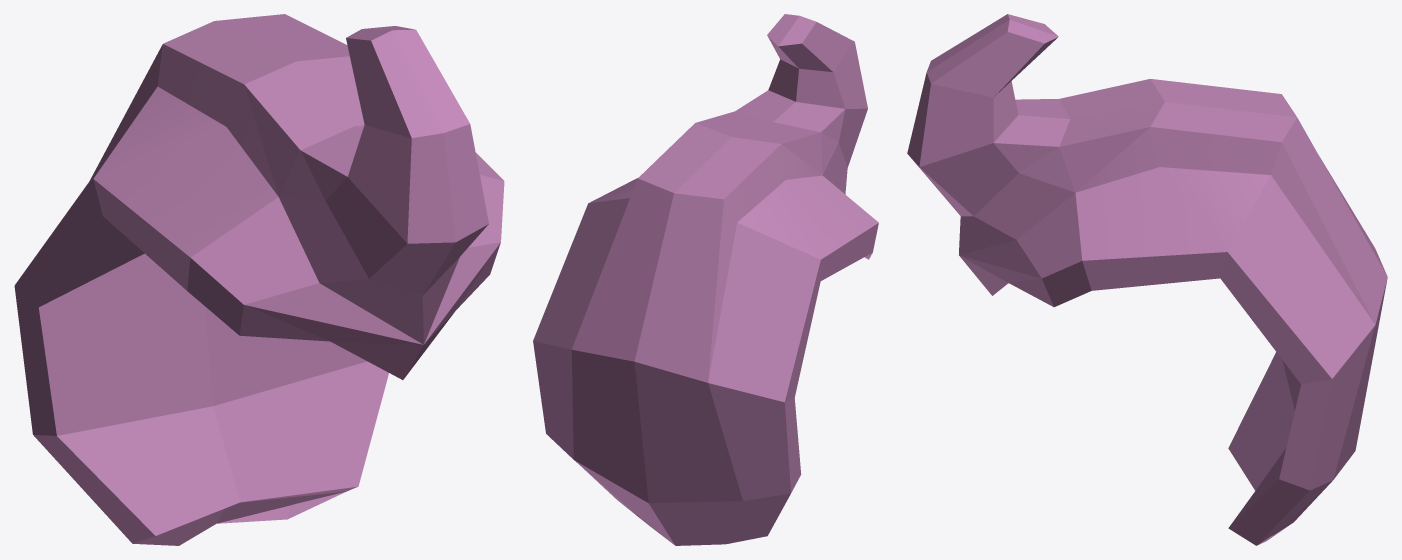
Rendered from SM_Chr_Attach_Hair_06.fbx.
The picture shows the model from 3 angles, left to right: view 1: azimuth 30°, elevation 25°; view 2: azimuth 150°, elevation 25°; view 3: azimuth 270°, elevation 25°; orthographic projection. The views are drawn at different scales.
Visible parts, largest first — view 1: SM_Chr_Attach_Hair_06; view 2: SM_Chr_Attach_Hair_06; view 3: SM_Chr_Attach_Hair_06.
Part boxes in pixels (box(x1,y1,x2,y2)): SM_Chr_Attach_Hair_06: box(14, 14, 504, 545); SM_Chr_Attach_Hair_06: box(533, 14, 878, 545); SM_Chr_Attach_Hair_06: box(907, 14, 1387, 545).
Size of the model in its own units: 22.78 by 37.98 by 32.91.
